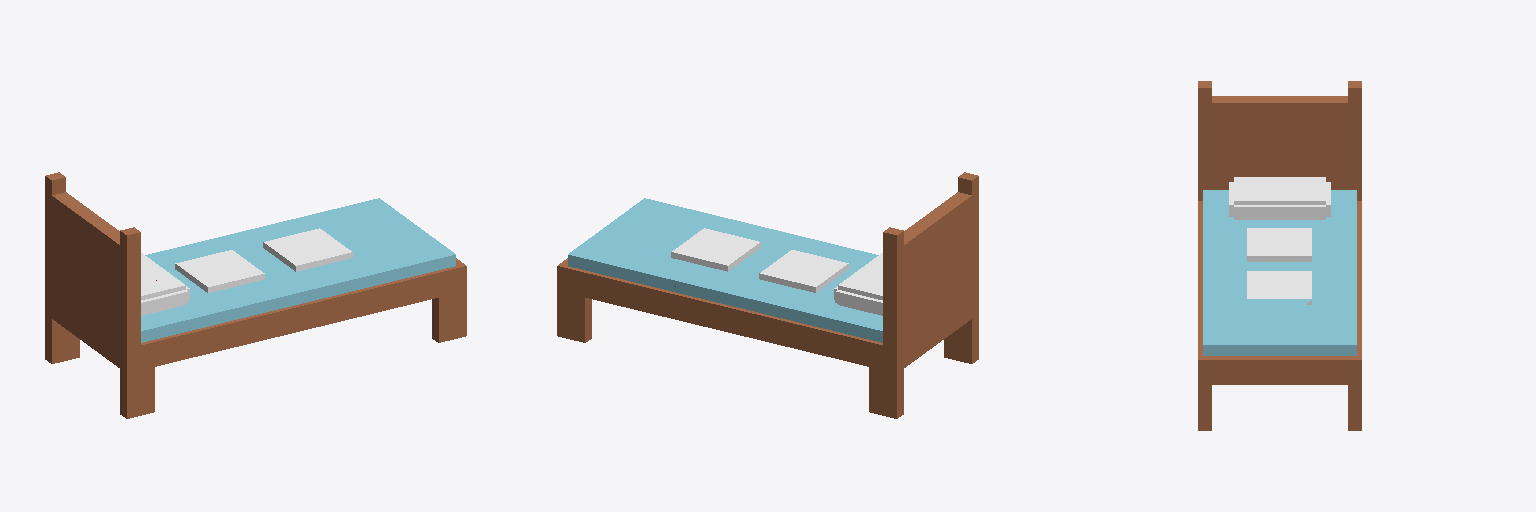
3 renders of one model, left to right at view 1: azimuth 30°, elevation 25°; view 2: azimuth 150°, elevation 25°; view 3: azimuth 270°, elevation 25°, orthographic.
Parts seen in each view (by area): view 1: Magic; view 2: Magic; view 3: Magic.
Part boxes in pixels (left/top/right/bottom): Magic: left=45, top=172, right=466, bottom=418; Magic: left=557, top=172, right=978, bottom=418; Magic: left=1198, top=81, right=1361, bottom=430.
Size of the model in its own units: 6 by 3.1 by 2.5.
5 materials, 3 textured.